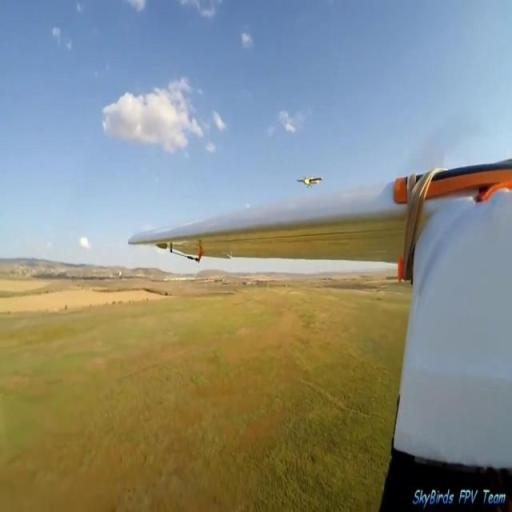uav: (296, 174, 322, 186)
